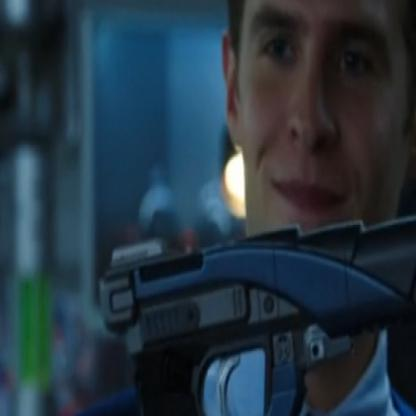gun: (82, 182, 415, 415)
